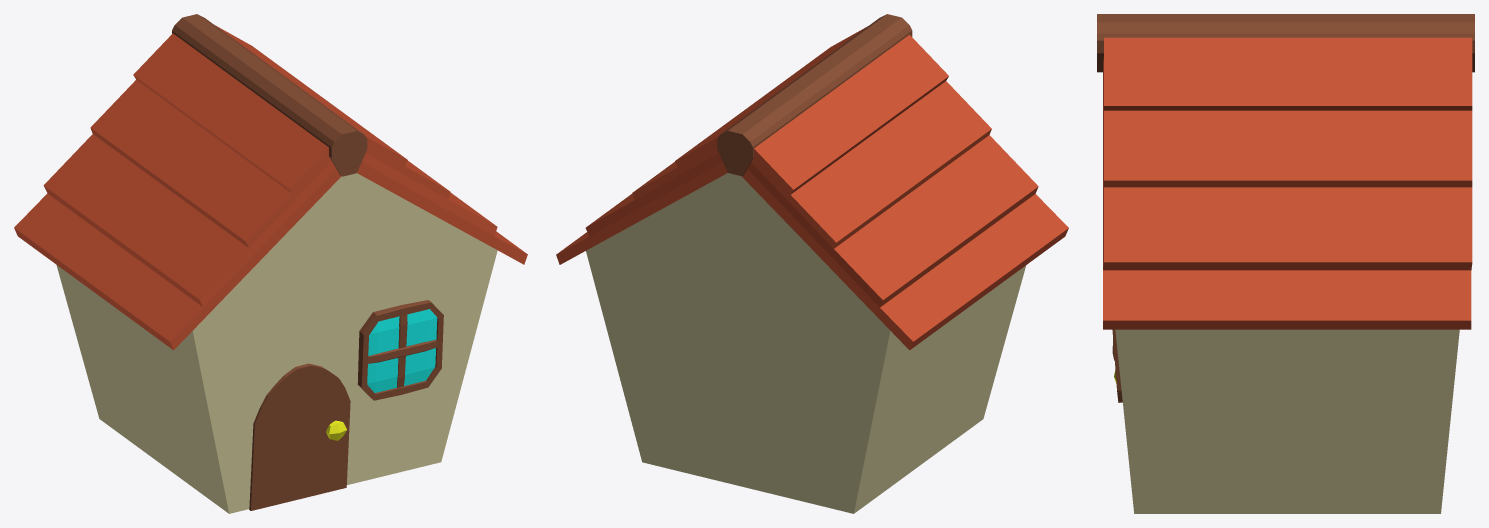
File: HouseA.fbx
The picture shows the model from 3 angles, left to right: view 1: azimuth 30°, elevation 25°; view 2: azimuth 150°, elevation 25°; view 3: azimuth 270°, elevation 25°; orthographic projection. The views are drawn at different scales.
Visible parts, largest first — view 1: Cube.033, Cube.034, Cube.037, Cube.035, Cube.038, Cube.040; view 2: Cube.033, Cube.034, Cube.035; view 3: Cube.034, Cube.033, Cube.035.
Boxes of the visible parts, bbox=[...] form: Cube.033: bbox=[56, 173, 497, 513]; Cube.034: bbox=[14, 25, 527, 350]; Cube.037: bbox=[249, 363, 350, 510]; Cube.035: bbox=[172, 14, 367, 176]; Cube.038: bbox=[357, 300, 443, 400]; Cube.040: bbox=[368, 339, 437, 363]; Cube.033: bbox=[586, 173, 1025, 513]; Cube.034: bbox=[556, 26, 1068, 350]; Cube.035: bbox=[717, 14, 912, 176]; Cube.034: bbox=[1103, 37, 1472, 329]; Cube.033: bbox=[1115, 329, 1459, 513]; Cube.035: bbox=[1097, 14, 1474, 72].
Size of the model in its own units: 1033 by 1015 by 799.
